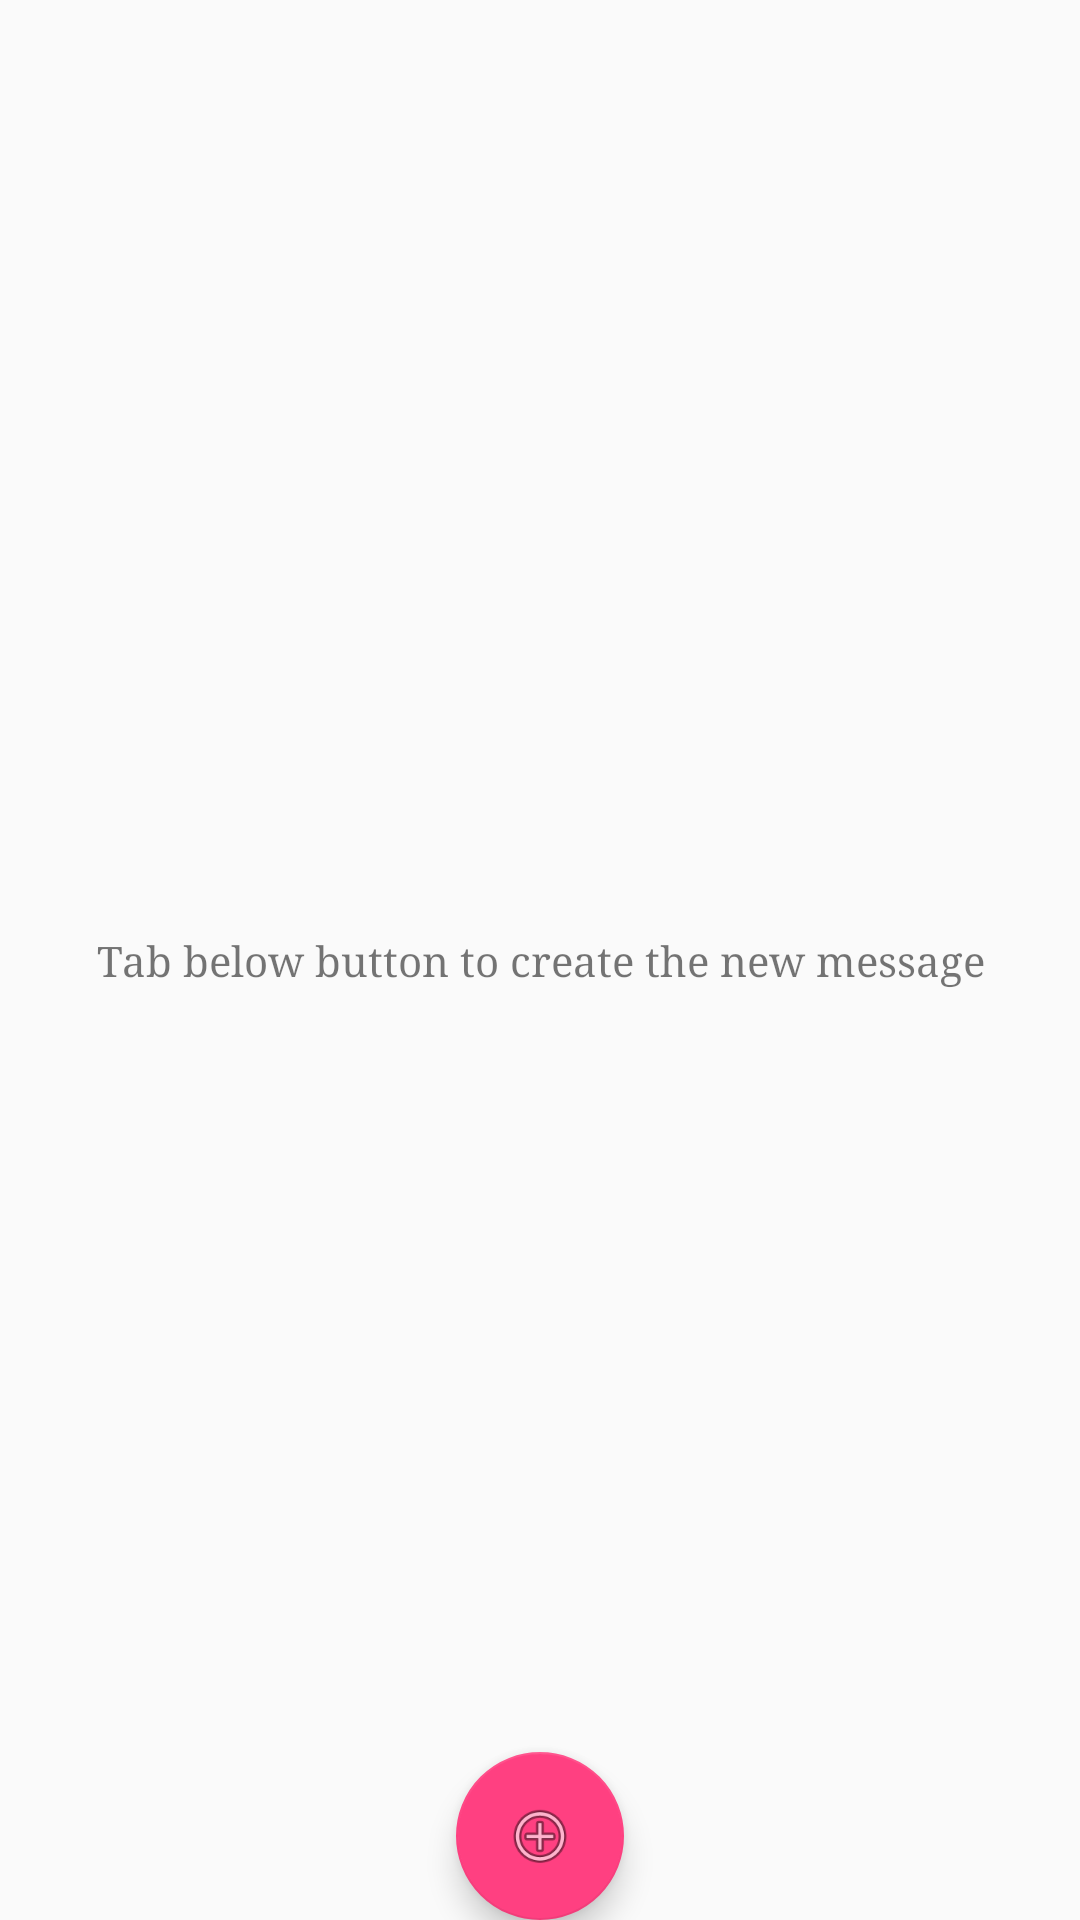

Point at icon controls on the screen. Image size 1080px×1920px, points as point (x, y).
add: point (540, 1836)
